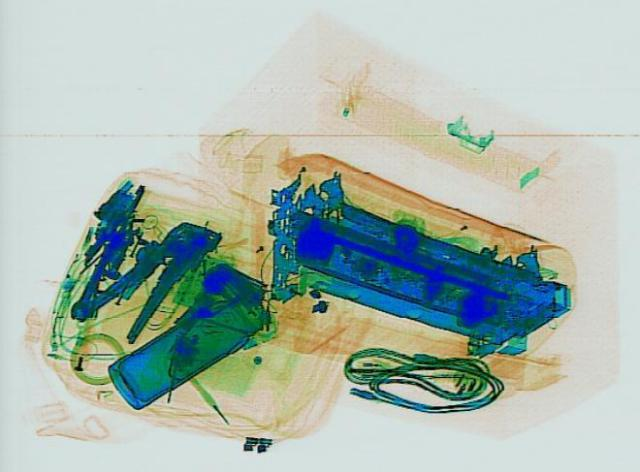Pliers: (64, 209, 228, 343)
